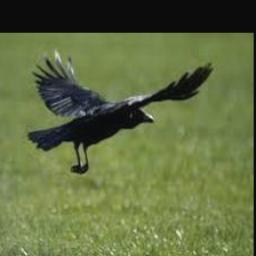Crow: (26, 44, 213, 174)
